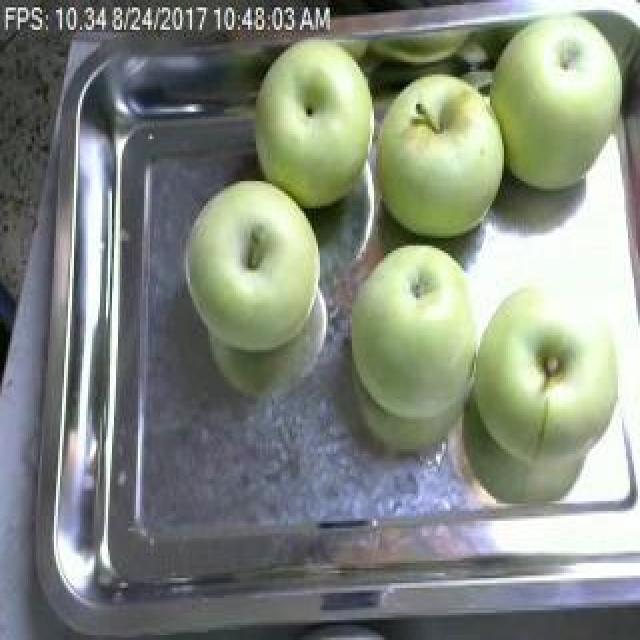Rotten Apple: (493, 0, 623, 231), (473, 282, 635, 458), (184, 158, 322, 364), (380, 71, 512, 254), (246, 36, 370, 227), (339, 250, 477, 420)
